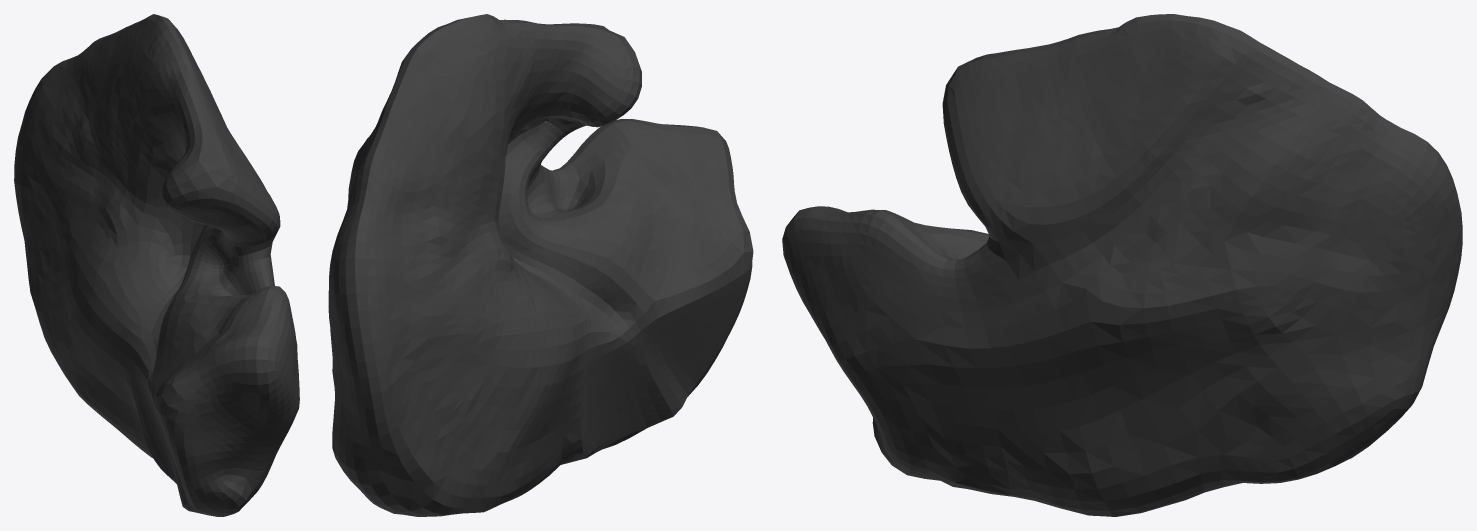
Rendered from Maxillary_recess_L.glb.
The picture shows the model from 3 angles, left to right: view 1: azimuth 30°, elevation 25°; view 2: azimuth 150°, elevation 25°; view 3: azimuth 270°, elevation 25°; orthographic projection. The views are drawn at different scales.
Visible parts, largest first — view 1: Maxillary_recess_L; view 2: Maxillary_recess_L; view 3: Maxillary_recess_L.
Boxes of the visible parts, x1,y1,x2,y2 form: Maxillary_recess_L: (14, 14, 299, 516); Maxillary_recess_L: (328, 14, 753, 516); Maxillary_recess_L: (782, 14, 1462, 516).
Bounding box in the file's own units: 80.64 × 161 × 196.
1 material, 1 textured.
